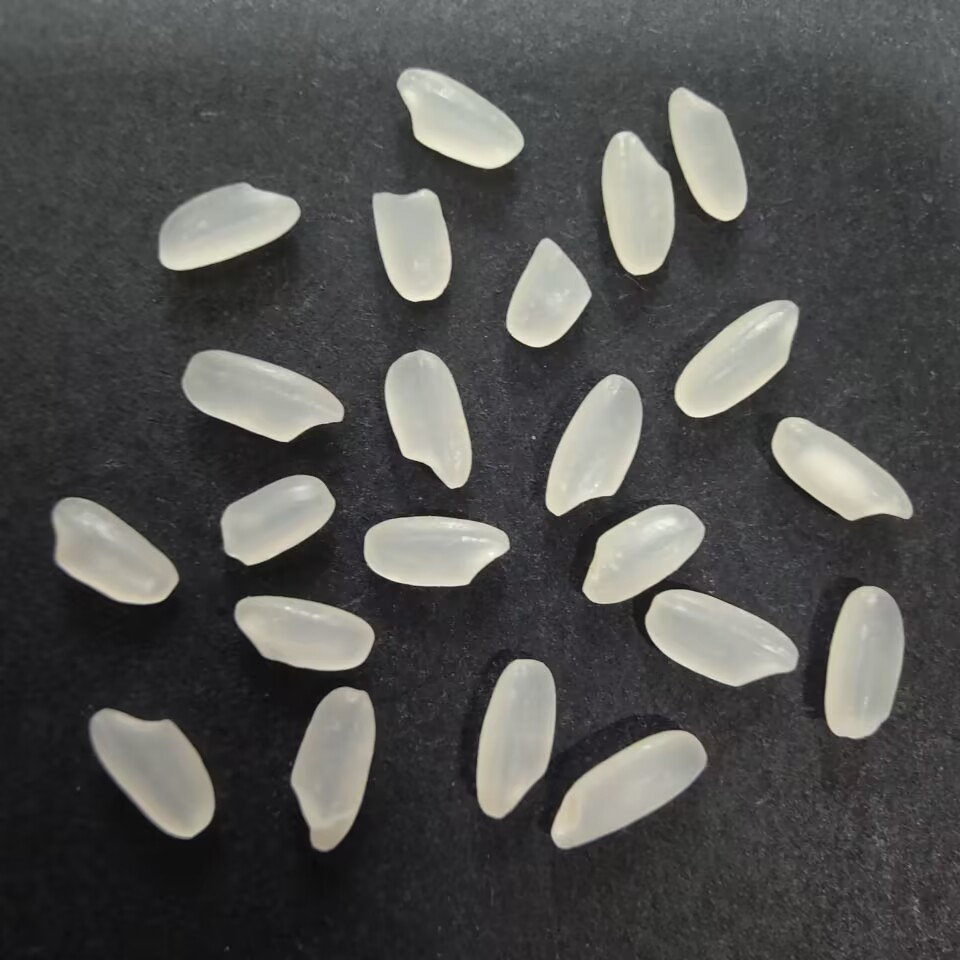broken: (213, 464, 343, 576), (497, 235, 596, 351), (365, 184, 457, 306)
rice: (545, 724, 714, 855), (86, 701, 220, 843), (175, 345, 351, 449), (283, 682, 383, 861), (640, 585, 802, 693), (769, 413, 920, 528), (670, 296, 803, 419), (540, 368, 647, 520), (43, 492, 181, 608), (468, 654, 562, 822), (375, 344, 477, 498), (155, 178, 305, 275), (391, 64, 528, 170), (577, 498, 710, 607), (820, 581, 909, 743), (596, 124, 680, 281), (358, 510, 516, 593), (666, 81, 752, 225), (232, 592, 378, 676)
